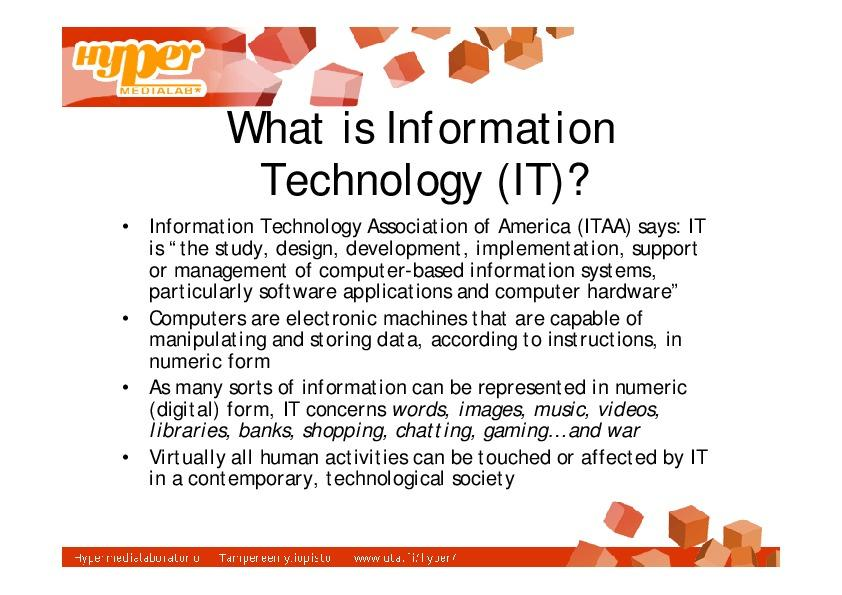paragraph: (110, 214, 737, 499)
subtitle: (66, 545, 482, 568)
title: (222, 97, 622, 209)
